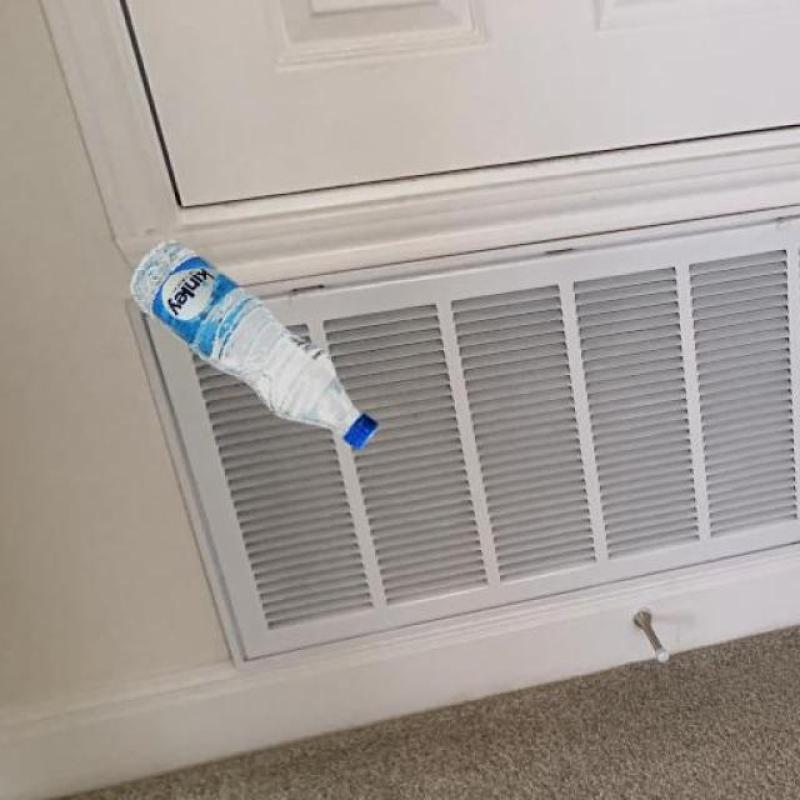botella: (129, 238, 379, 452)
